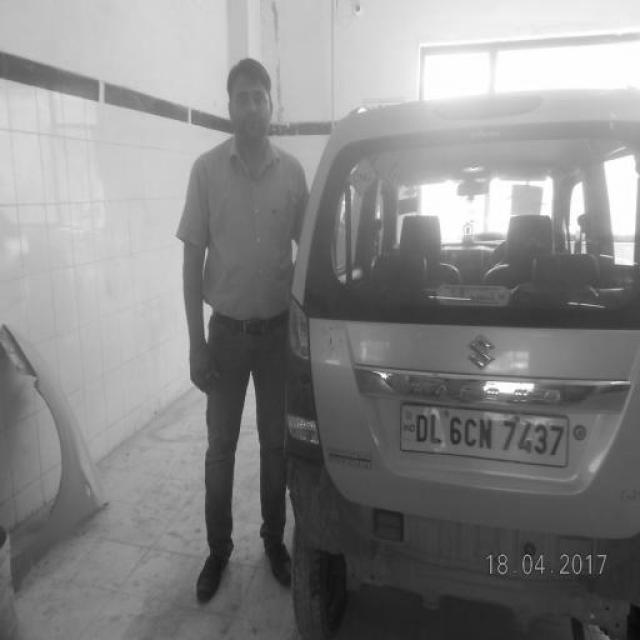missing: (284, 461, 638, 637)
